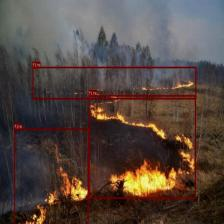fire: (89, 94, 196, 198), (14, 128, 88, 224), (32, 66, 196, 99)
